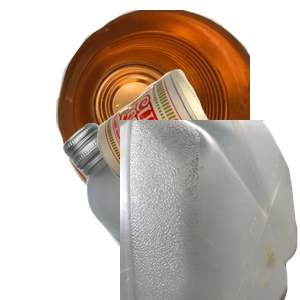glass: (60, 120, 300, 300)
metal: (53, 10, 293, 190)
plastic: (120, 120, 300, 300)
trash: (95, 67, 300, 238)
